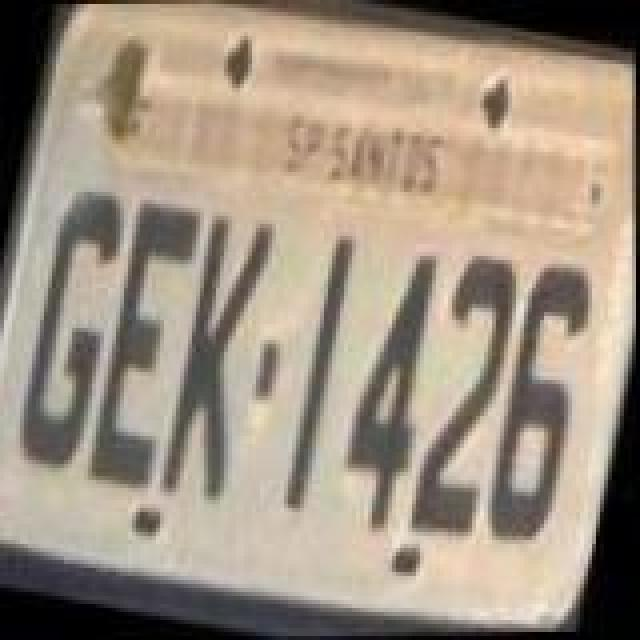1: (274, 232, 366, 516)
2: (398, 246, 534, 546)
4: (330, 240, 458, 536)
6: (474, 254, 610, 554)
E: (74, 192, 214, 500)
G: (4, 178, 140, 478)
K: (152, 204, 288, 508)
